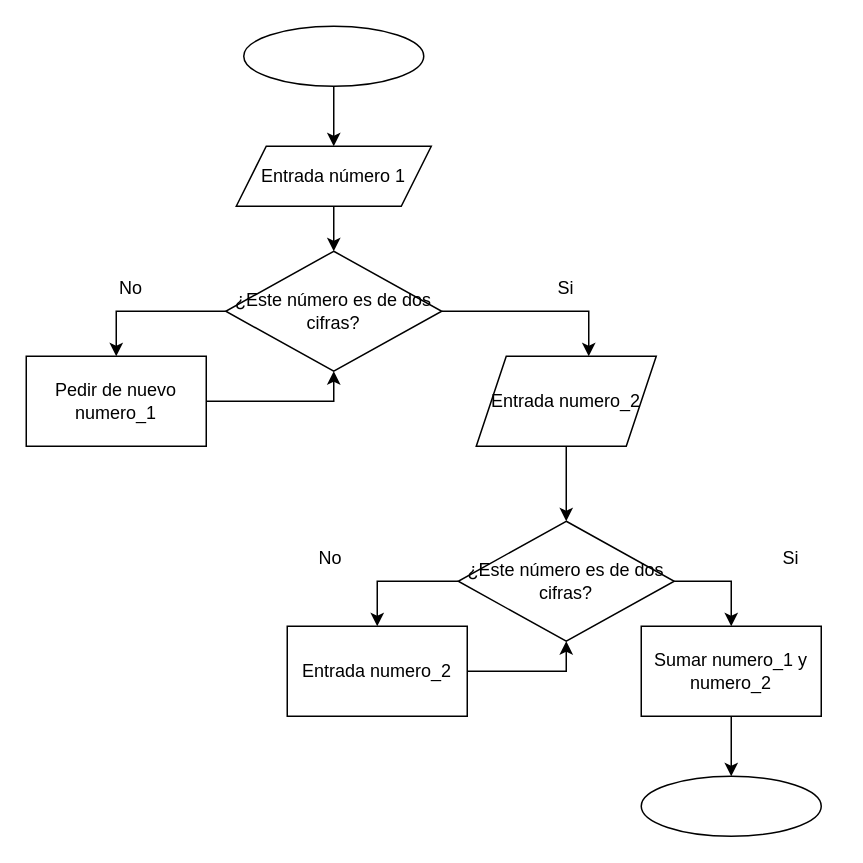
Image size: 863x863. Some labels were removed from this diagram. Each missing label, with the centre of its shape:
Fin: point (730, 805)
Inicio: point (333, 55)
